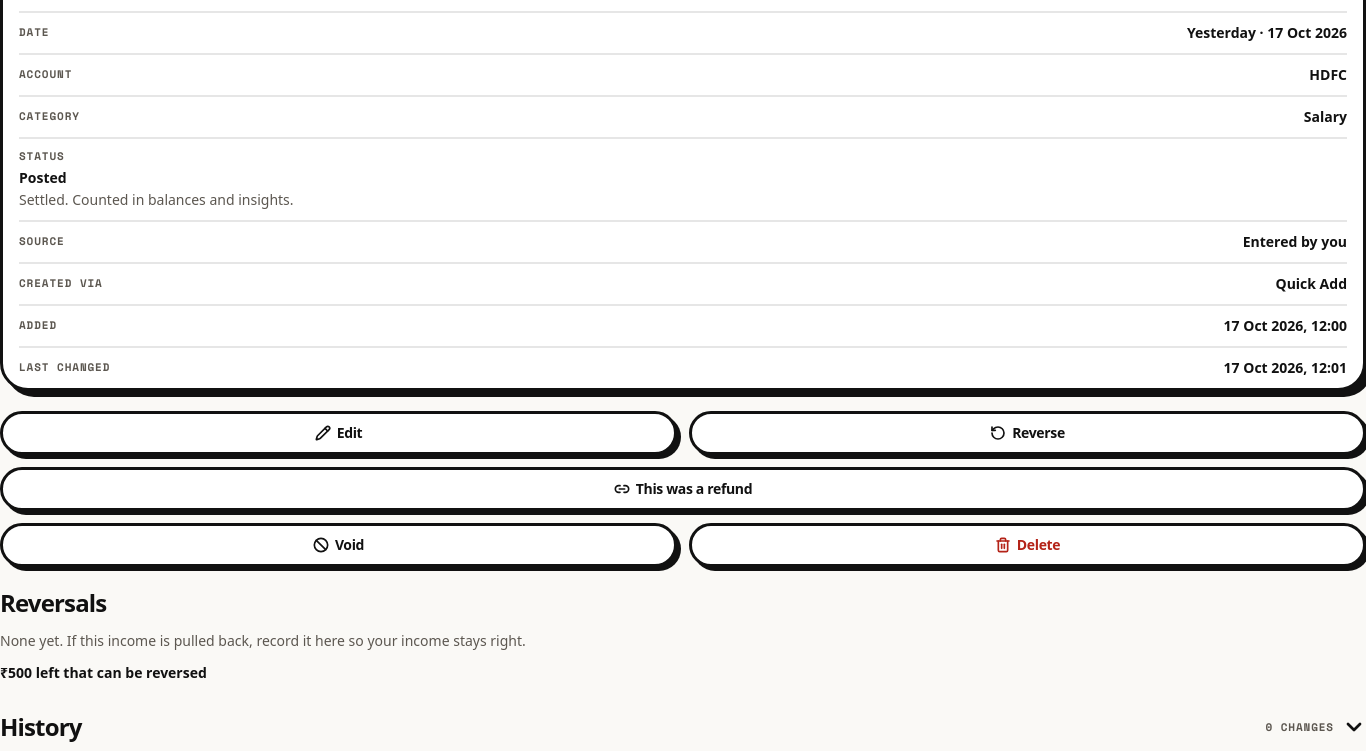
Scenario: Entry details — refunds and reversals › turns income that was really a refund into a refund of a chosen purchase
The width and height of the screenshot is (1366, 751).
(page scrolled)
Click the button "This was a refund".
click(683, 489)  # box [0, 467, 1365, 511]
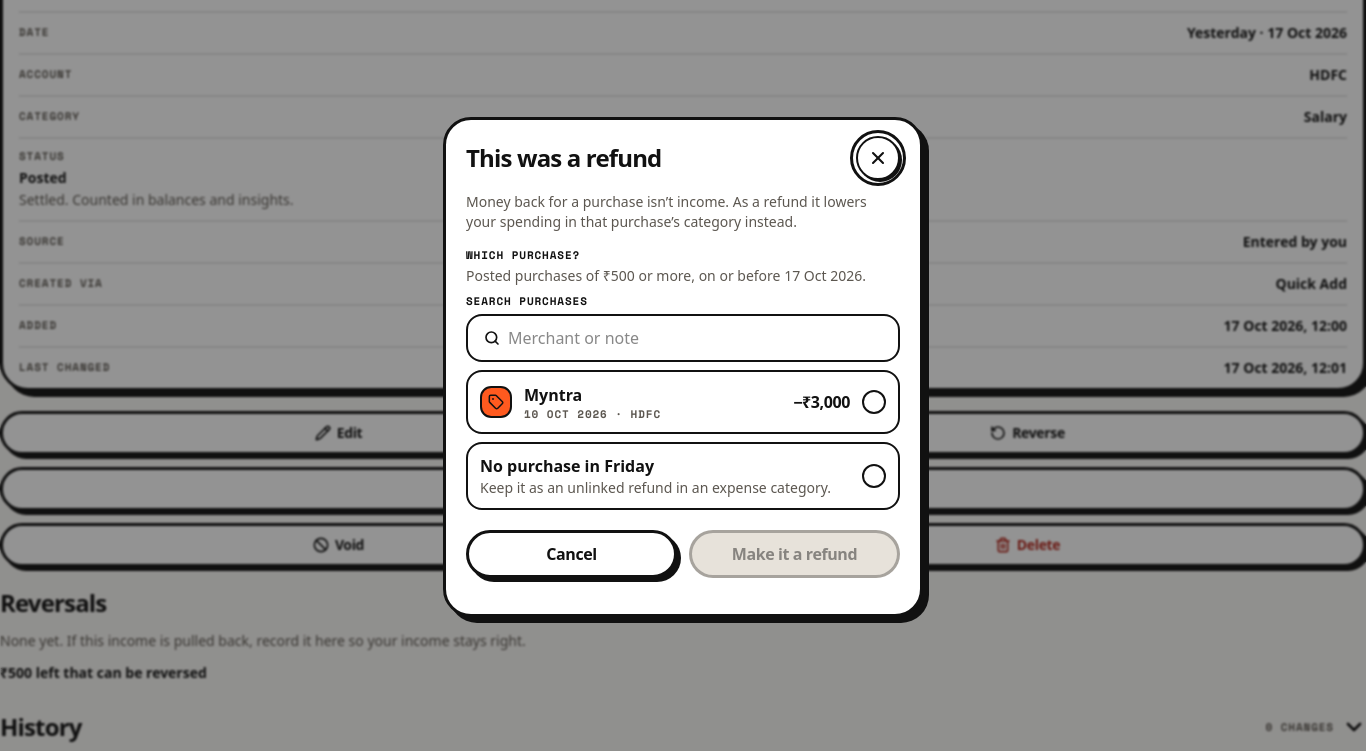
Check: the button "Make it a refund" is disabled, box [689, 530, 900, 578]
Click the radio button labelled "Myntra 10 Oct 2026 · HDFC −₹3,000".
click(496, 402)  # box [466, 370, 900, 434]
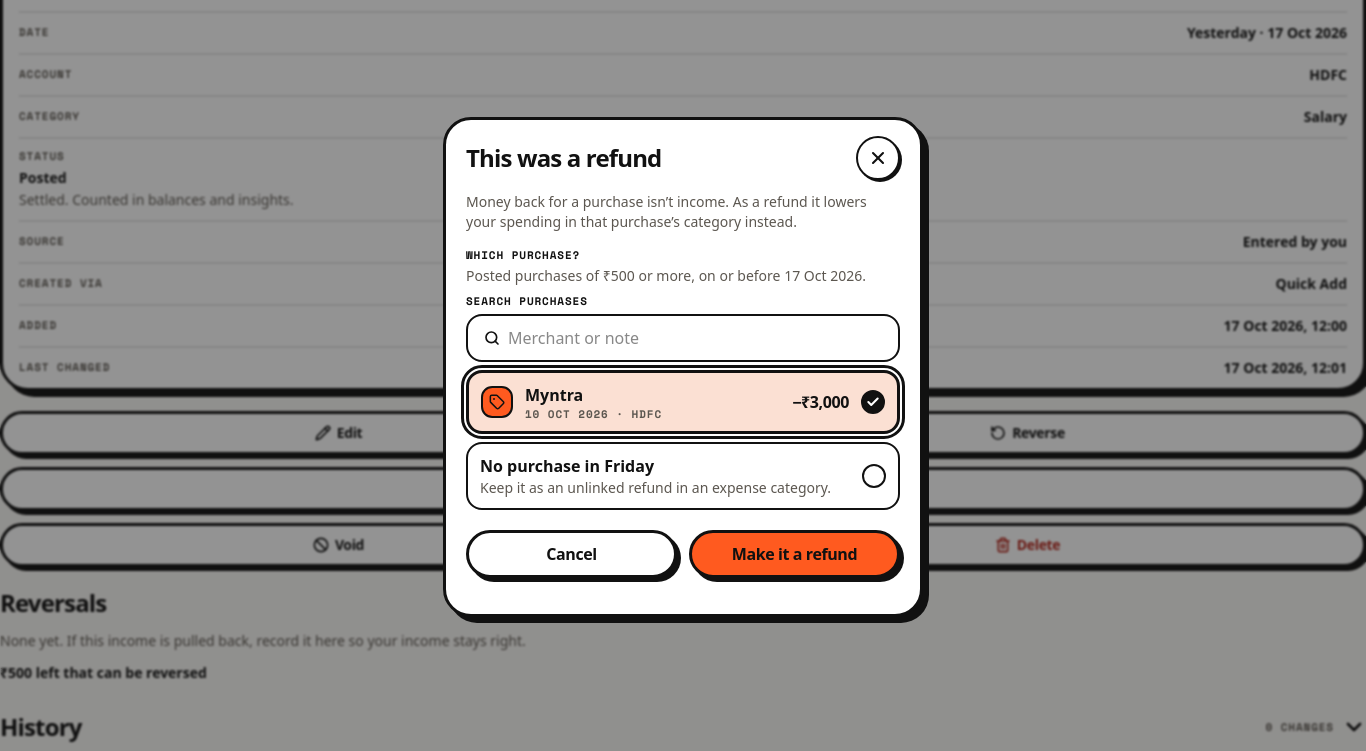
Click the button "Make it a refund".
click(794, 554)  # box [689, 530, 900, 578]
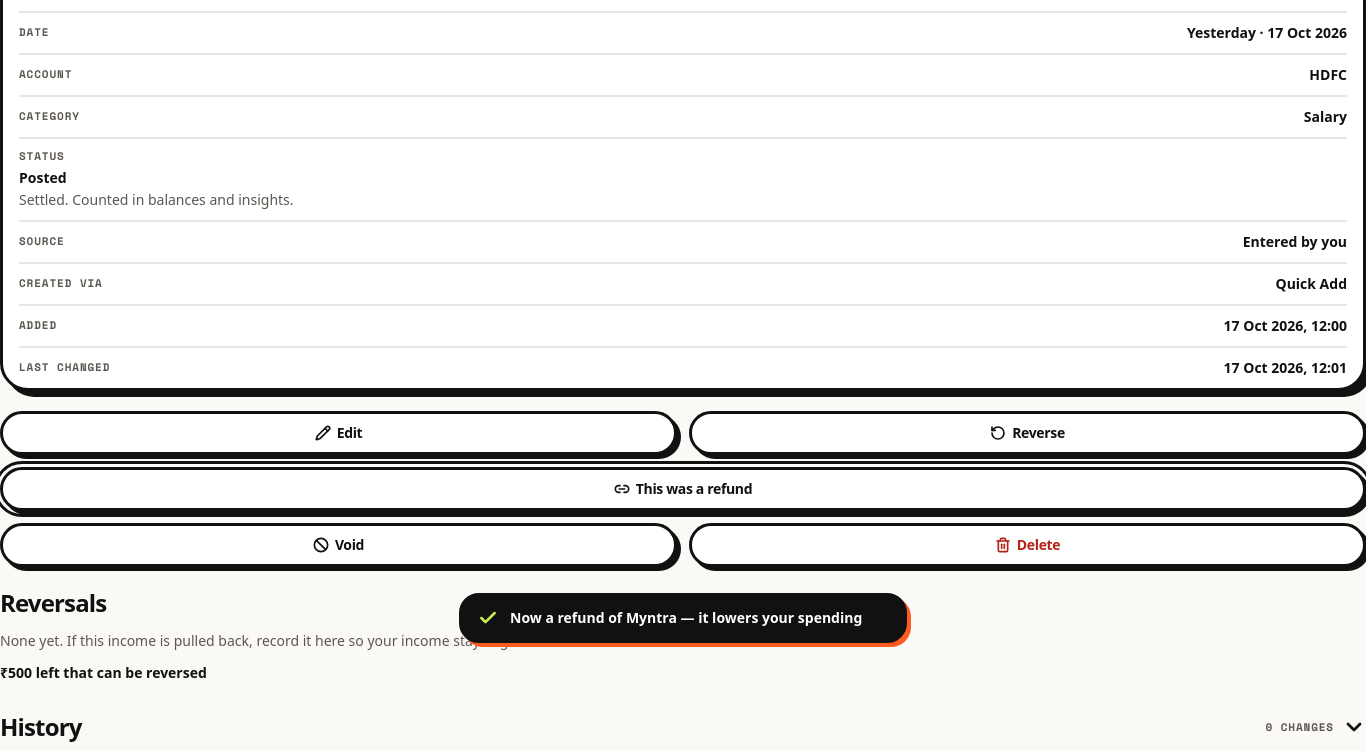
Check: the text "Now a refund of Myntra — it lowers your spending" is shown, box [510, 608, 888, 628]
